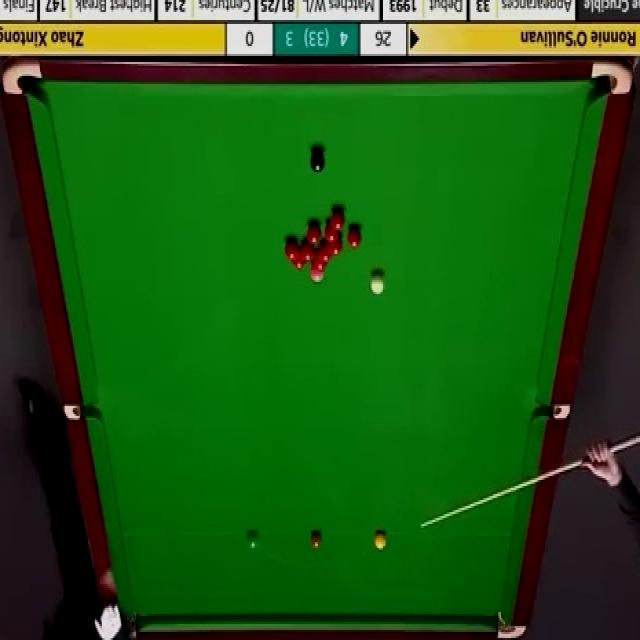pocket: (2, 57, 42, 96), (590, 61, 634, 96), (496, 610, 528, 640), (536, 400, 570, 419), (64, 399, 98, 418), (125, 608, 138, 638)
